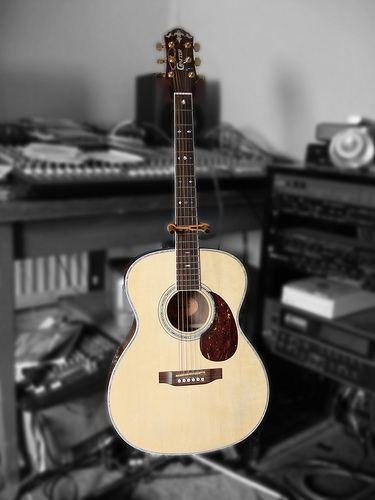guitar: (105, 27, 269, 458)
